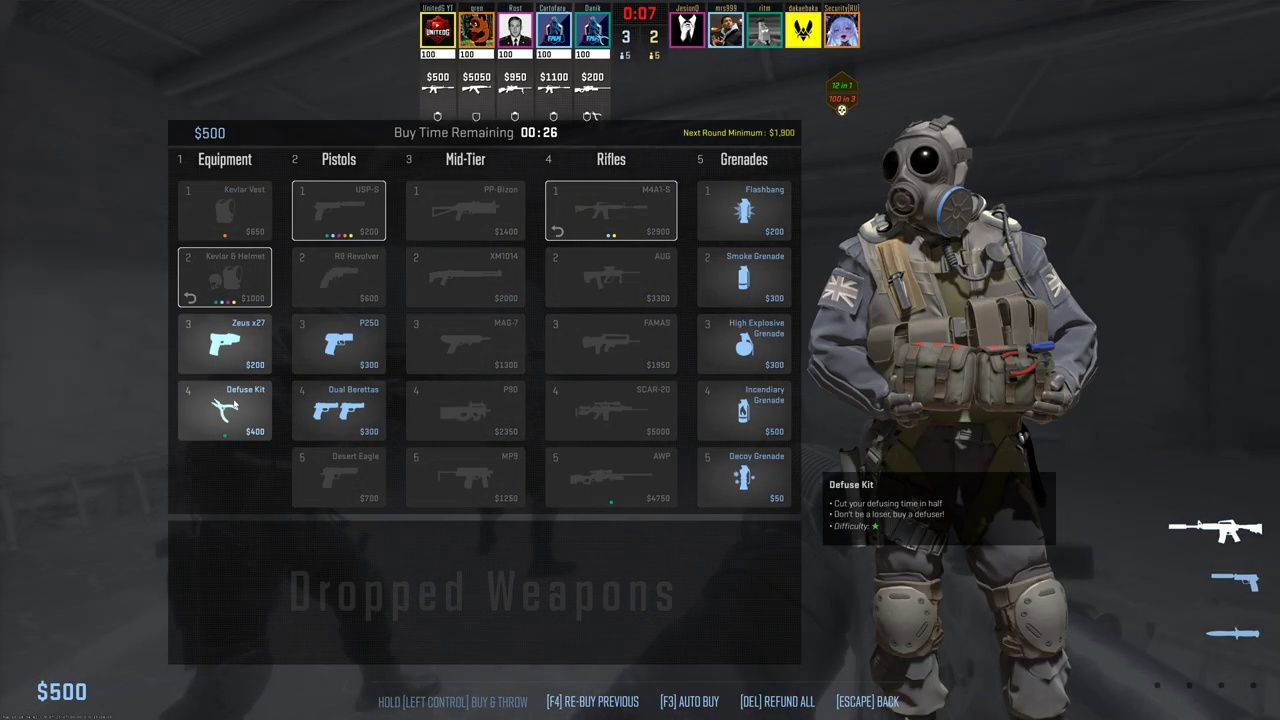CT: (851, 125, 1076, 709)
